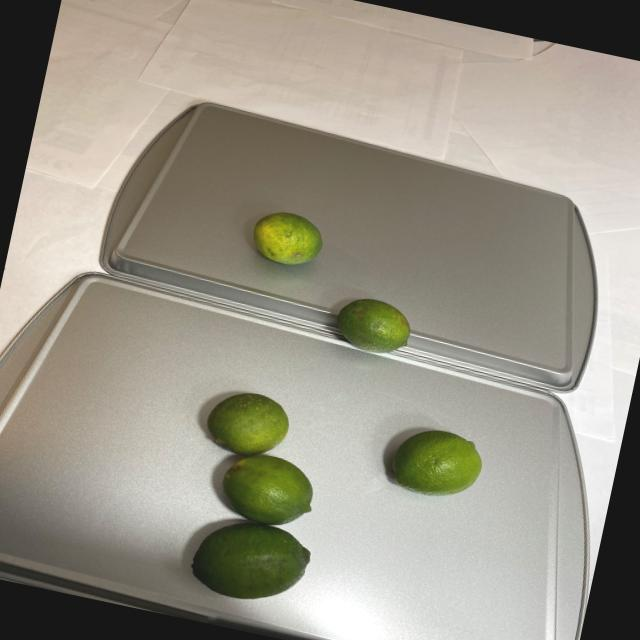lemon: (151, 376, 346, 621), (228, 204, 433, 360), (378, 408, 493, 510)
